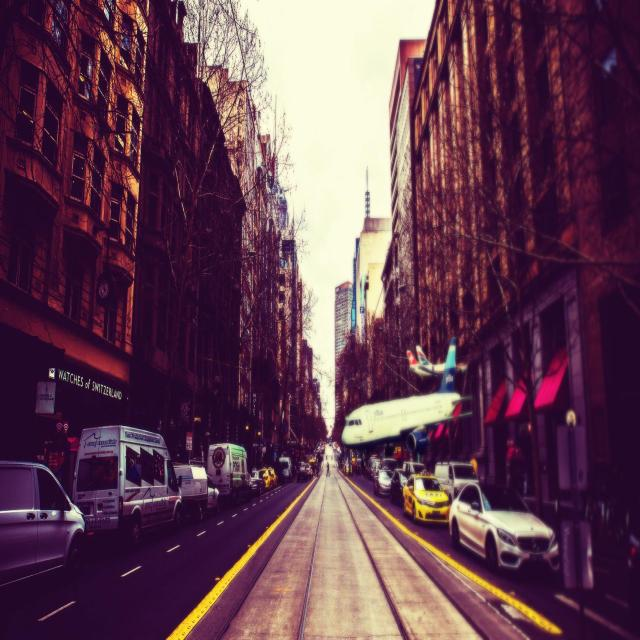airplane: (340, 336, 472, 454), (406, 339, 468, 379)
